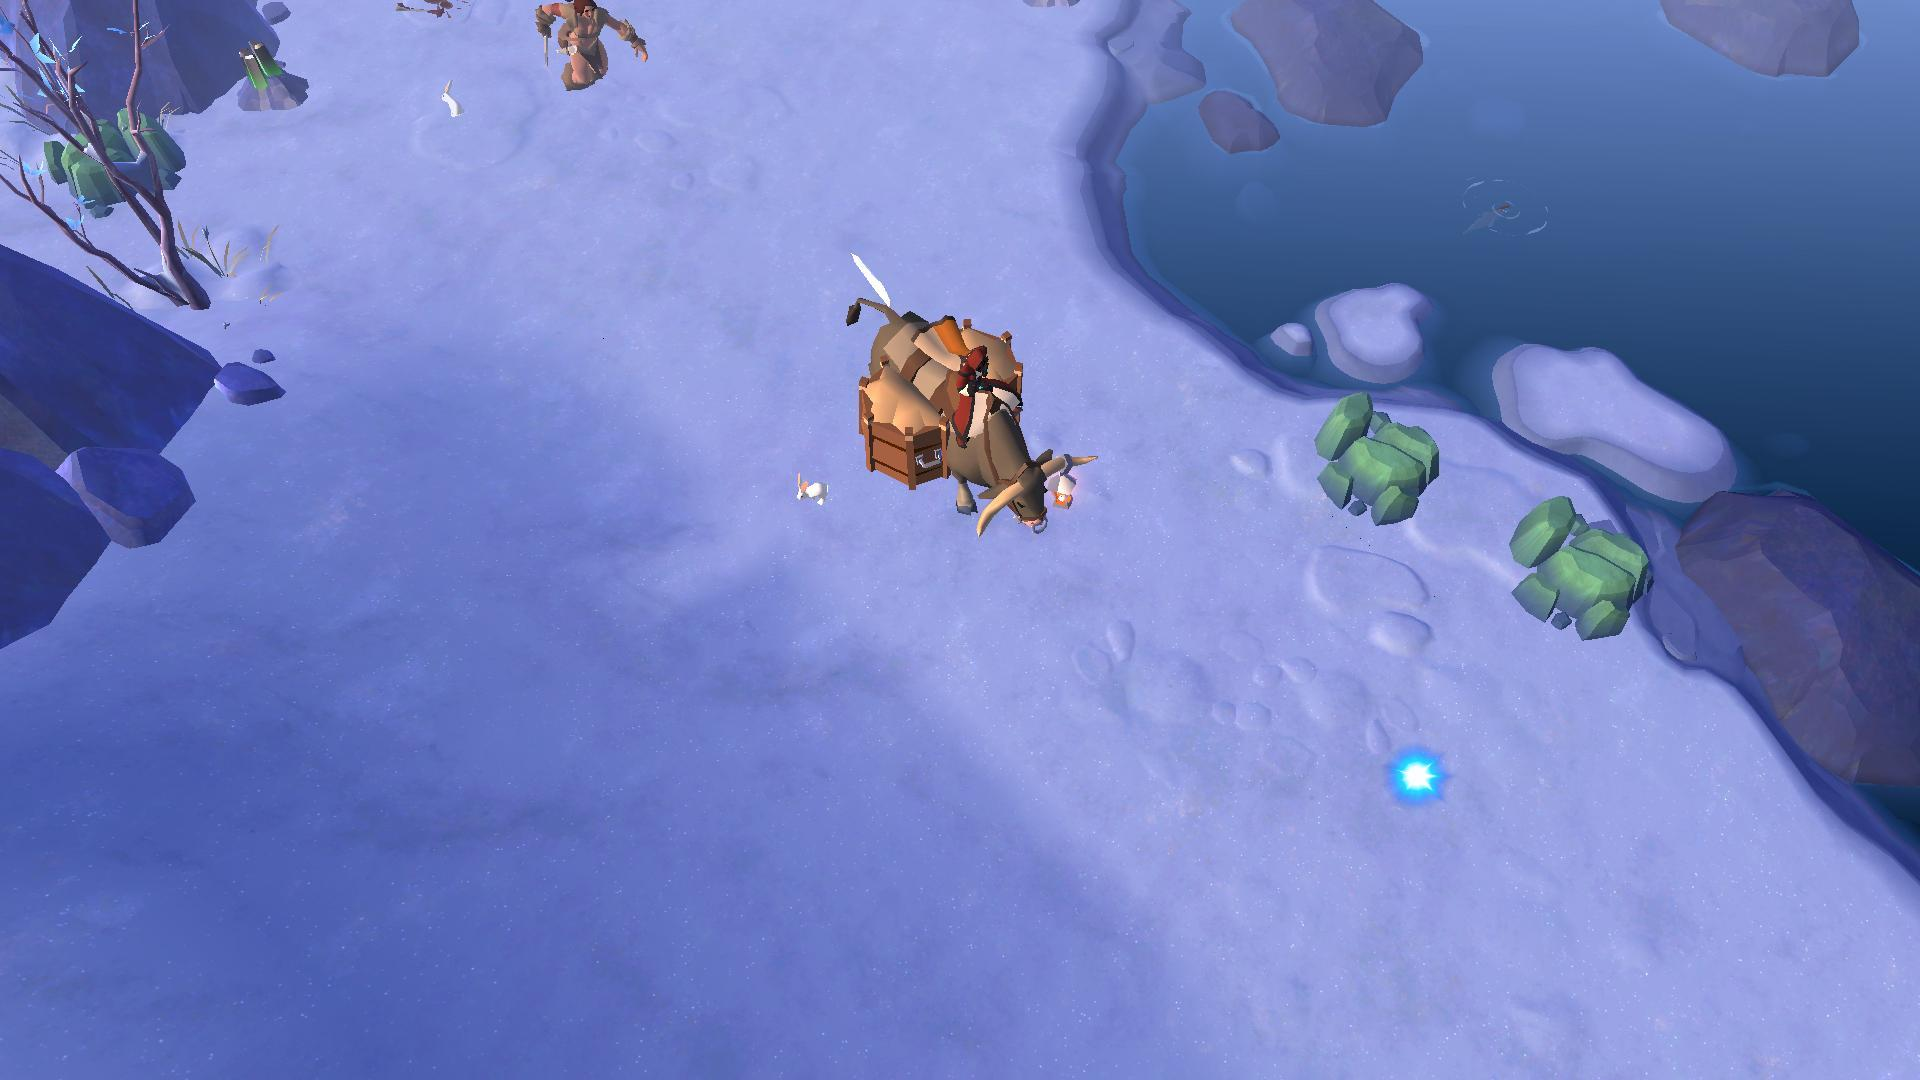enemy_factionKeeper: (525, 0, 649, 100)
ore_t3: (233, 41, 280, 94)
rock_t3: (1494, 487, 1650, 645), (1303, 380, 1445, 529), (29, 98, 198, 214)
